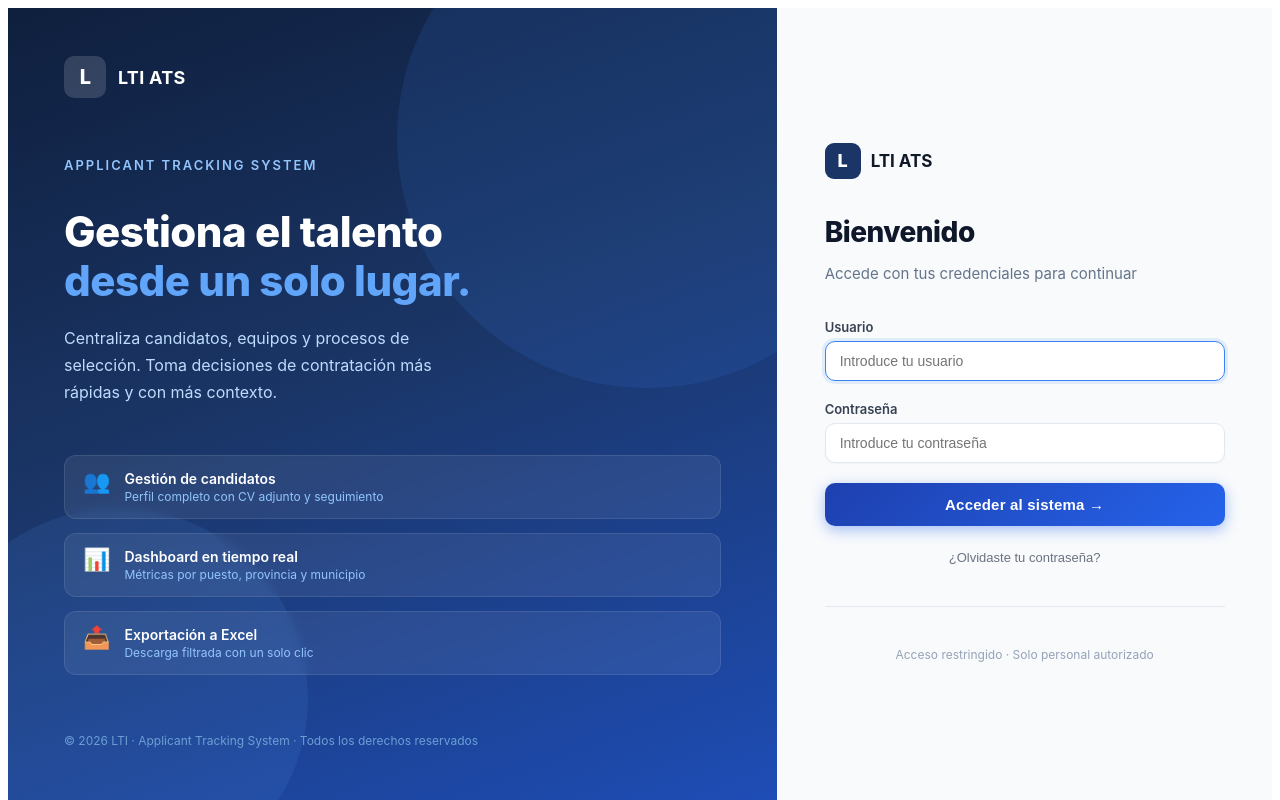
Test: LoginPage › shows forgot-password message when the link is clicked
# Fill in login so the forgot-password handler does not show a validation error
Type "admin" into the field labelled "Usuario" at [1025, 360], box [825,340,1225,380]
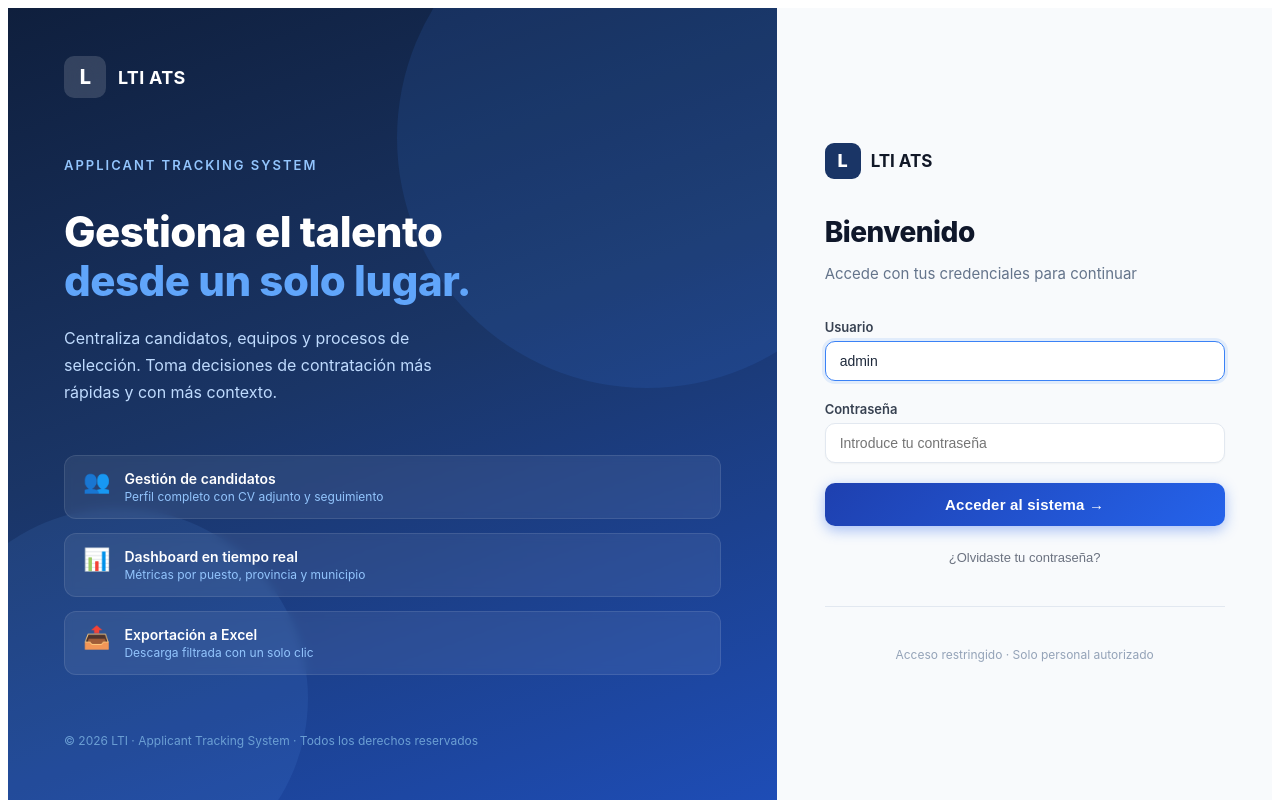
Click the button "¿Olvidaste tu contraseña?" at [1025, 557], box [943,548,1107,566]
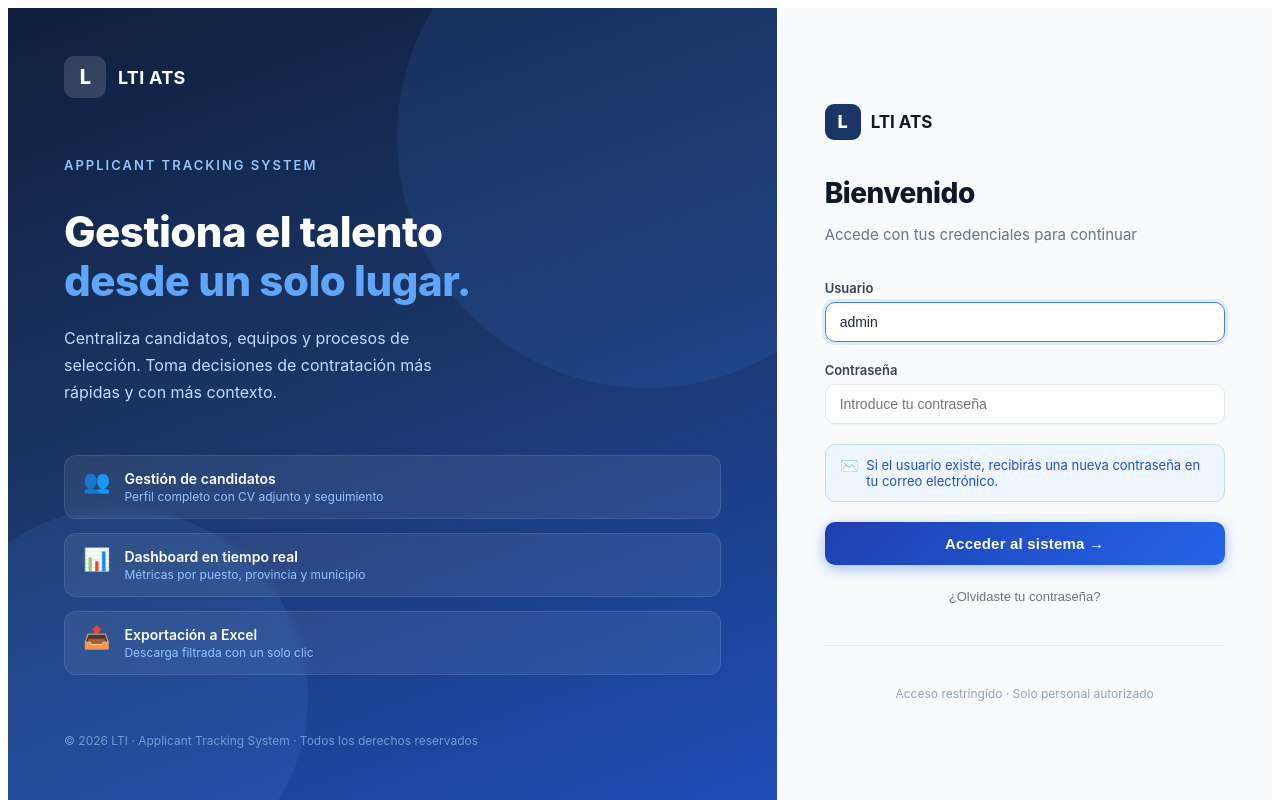
Result: the message is shown at [825,444,1225,502]
Result: the message shows "Si el usuario existe" at [866,456,1200,488]
